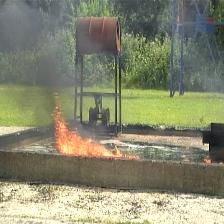fire: (53, 121, 121, 161)
smoke: (4, 13, 37, 35)
